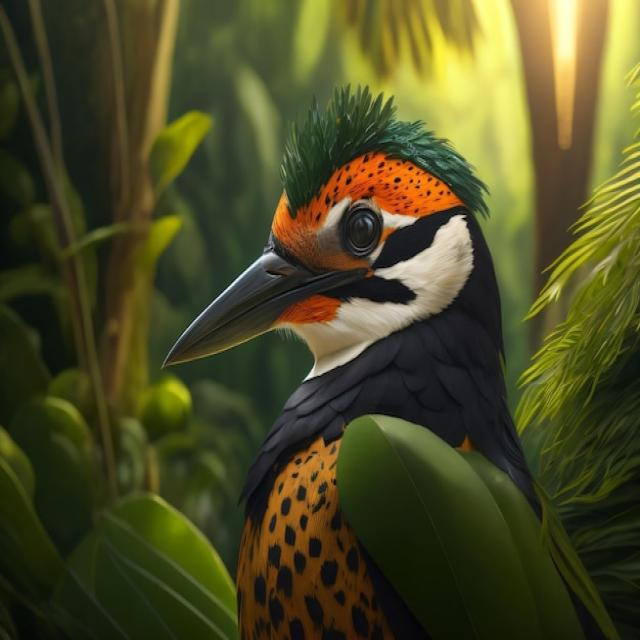Woodpecker: (167, 90, 608, 640)
